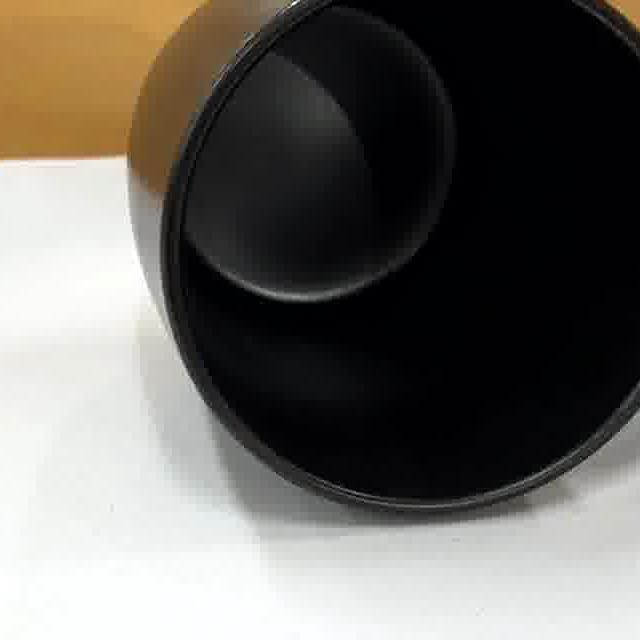cup: (162, 0, 640, 520)
